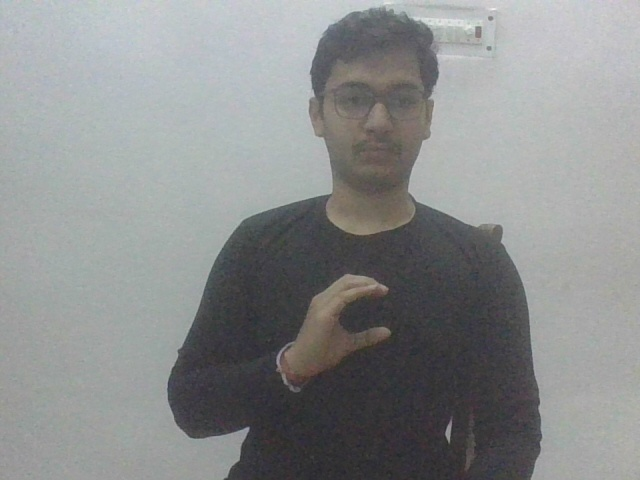C: (294, 270, 397, 382)
